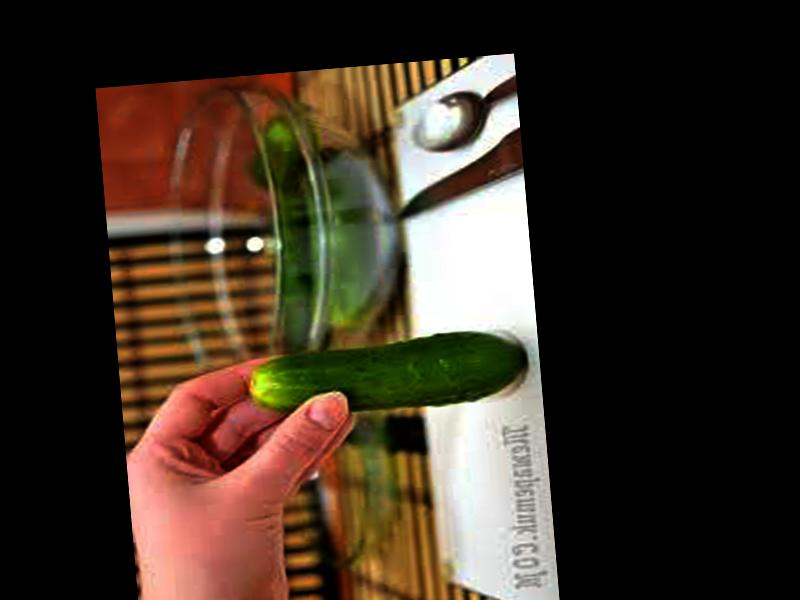Cucumber: (246, 327, 526, 420)
